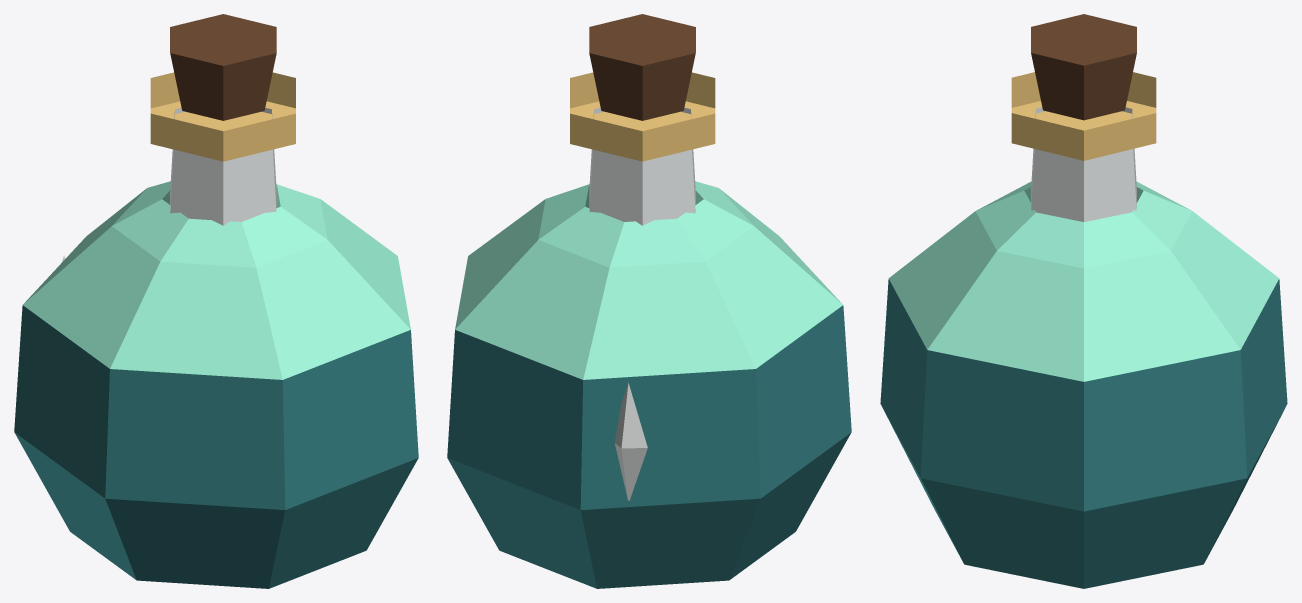
File: Tonic.obj
3 views of the same model, side by side, from view 1: azimuth 30°, elevation 25°; view 2: azimuth 150°, elevation 25°; view 3: azimuth 270°, elevation 25° (orthographic).
Size of the model in its own units: 1.43 by 1.97 by 1.46.
